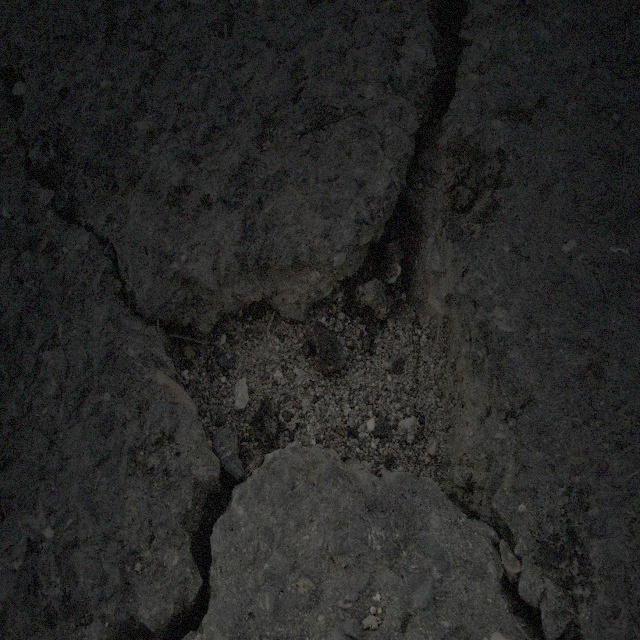pothole: (148, 197, 495, 536)
